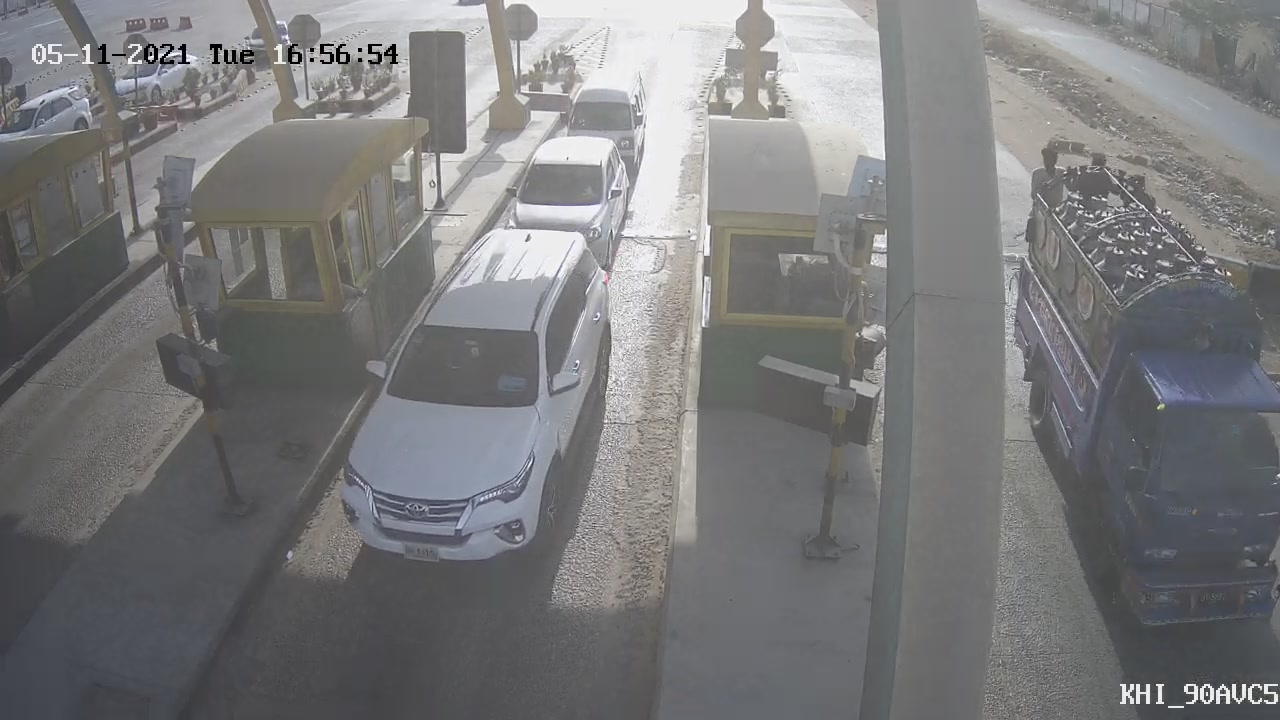F1: (305, 208, 637, 595)
